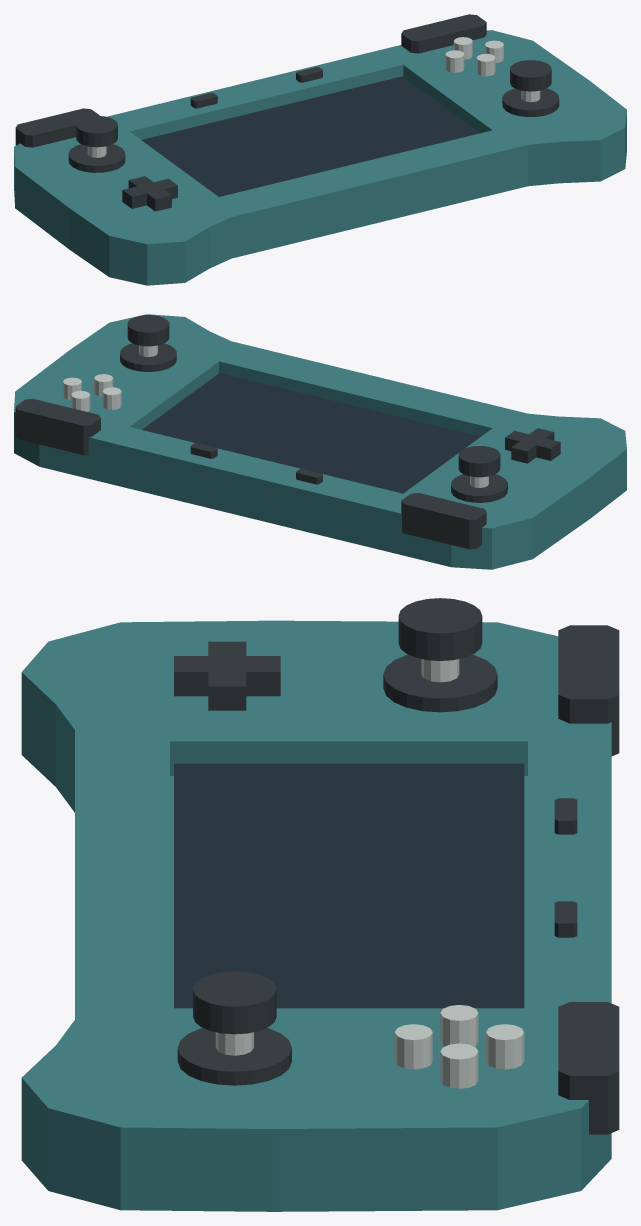
The picture shows the model from 3 angles, top to bottom: view 1: azimuth 30°, elevation 25°; view 2: azimuth 150°, elevation 25°; view 3: azimuth 270°, elevation 25°; orthographic projection. The views are drawn at different scales.
Parts seen in each view (by area): view 1: WholeContinuousTwinGripRecessedShell, WholeOpaqueBlankScreen, WholeRearShoulderControl1, WholeRearShoulderControl0, WholeIntegralDirectionalCross, WholeJoystickBaseLeft, WholeJoystickBaseRight, WholeJoystickCapRight, WholeJoystickCapLeft, WholeBlankActionButton3, WholeBlankActionButton2; view 2: WholeContinuousTwinGripRecessedShell, WholeOpaqueBlankScreen, WholeRearShoulderControl0, WholeRearShoulderControl1, WholeIntegralDirectionalCross, WholeJoystickCapLeft, WholeJoystickBaseRight, WholeJoystickCapRight, WholeJoystickBaseLeft, WholeBlankActionButton3, WholeBlankActionButton0; view 3: WholeContinuousTwinGripRecessedShell, WholeOpaqueBlankScreen, WholeRearShoulderControl1, WholeRearShoulderControl0, WholeIntegralDirectionalCross, WholeJoystickBaseLeft, WholeJoystickBaseRight, WholeJoystickCapLeft, WholeJoystickCapRight, WholeBlankActionButton0, WholeBlankActionButton2, WholeBlankActionButton1 (+3 smaller).
Part boxes in pixels (box(x1,y1,x2,y2)): WholeContinuousTwinGripRecessedShell: box(14, 30, 626, 285); WholeOpaqueBlankScreen: box(141, 76, 479, 196); WholeRearShoulderControl1: box(401, 14, 486, 53); WholeRearShoulderControl0: box(15, 108, 99, 147); WholeIntegralDirectionalCross: box(122, 176, 177, 211); WholeJoystickBaseLeft: box(68, 144, 125, 172); WholeJoystickBaseRight: box(502, 88, 559, 117); WholeJoystickCapRight: box(510, 60, 551, 91); WholeJoystickCapLeft: box(76, 116, 117, 147); WholeBlankActionButton3: box(445, 50, 464, 72); WholeBlankActionButton2: box(476, 53, 495, 76); WholeContinuousTwinGripRecessedShell: box(14, 314, 626, 569); WholeOpaqueBlankScreen: box(142, 373, 480, 493); WholeRearShoulderControl0: box(401, 493, 486, 549); WholeRearShoulderControl1: box(15, 398, 100, 455); WholeIntegralDirectionalCross: box(505, 428, 560, 463); WholeJoystickCapLeft: box(458, 446, 500, 477); WholeJoystickBaseRight: box(120, 343, 176, 371); WholeJoystickCapRight: box(127, 315, 169, 346); WholeJoystickBaseLeft: box(451, 474, 507, 502); WholeBlankActionButton3: box(102, 387, 121, 409); WholeBlankActionButton0: box(71, 390, 90, 411); WholeContinuousTwinGripRecessedShell: box(21, 620, 611, 1211); WholeOpaqueBlankScreen: box(174, 763, 524, 1008); WholeRearShoulderControl1: box(558, 1002, 619, 1134); WholeRearShoulderControl0: box(558, 625, 619, 756); WholeIntegralDirectionalCross: box(174, 641, 280, 710); WholeJoystickBaseLeft: box(383, 654, 497, 712); WholeJoystickBaseRight: box(177, 1028, 291, 1085); WholeJoystickCapLeft: box(398, 598, 482, 660); WholeJoystickCapRight: box(193, 971, 276, 1034); WholeBlankActionButton0: box(486, 1024, 524, 1069); WholeBlankActionButton2: box(394, 1024, 432, 1069); WholeBlankActionButton1: box(440, 1043, 478, 1088).
Size of the model in its own units: 0.316 by 0.045 by 0.157.
